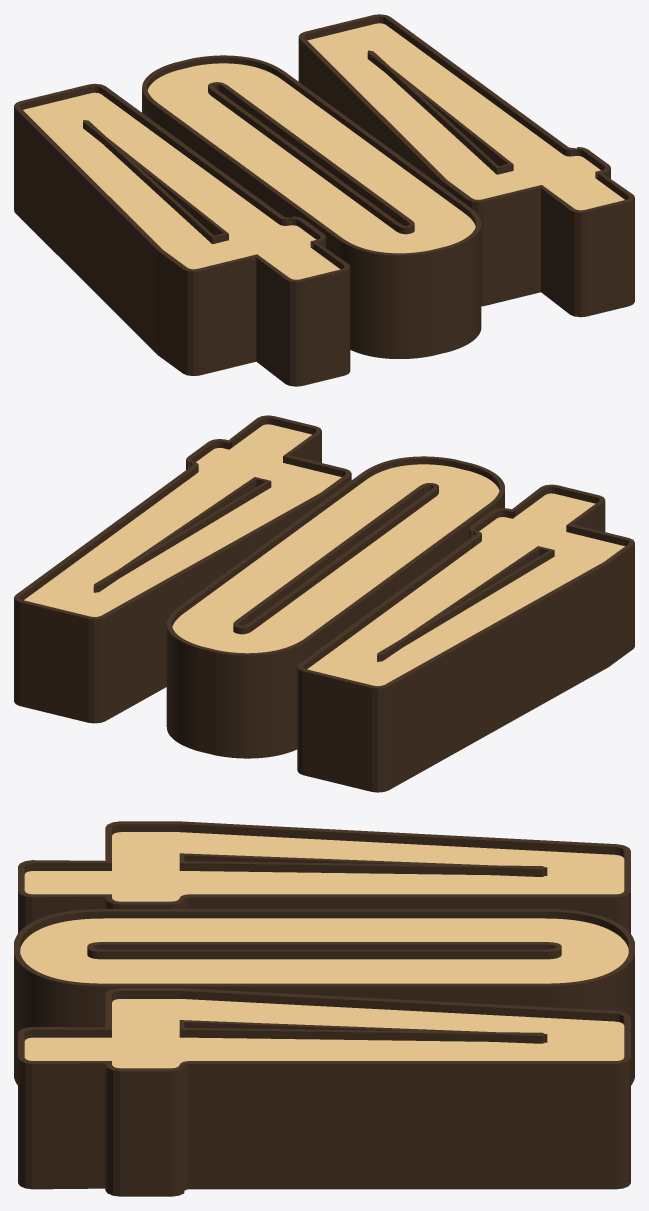
Rendered from qcq.glb.
3 renders of one model, top to bottom at view 1: azimuth 30°, elevation 25°; view 2: azimuth 150°, elevation 25°; view 3: azimuth 270°, elevation 25°, orthographic. The views are drawn at different scales.
Visible parts, largest first — view 1: BaseText; view 2: BaseText; view 3: BaseText.
Part boxes in pixels (x1,y1,x2,y2): BaseText: (14, 14, 634, 386); BaseText: (14, 415, 634, 792); BaseText: (14, 821, 634, 1196).
Bounding box in the file's own units: 0.6839 × 0.1601 × 0.7186.
